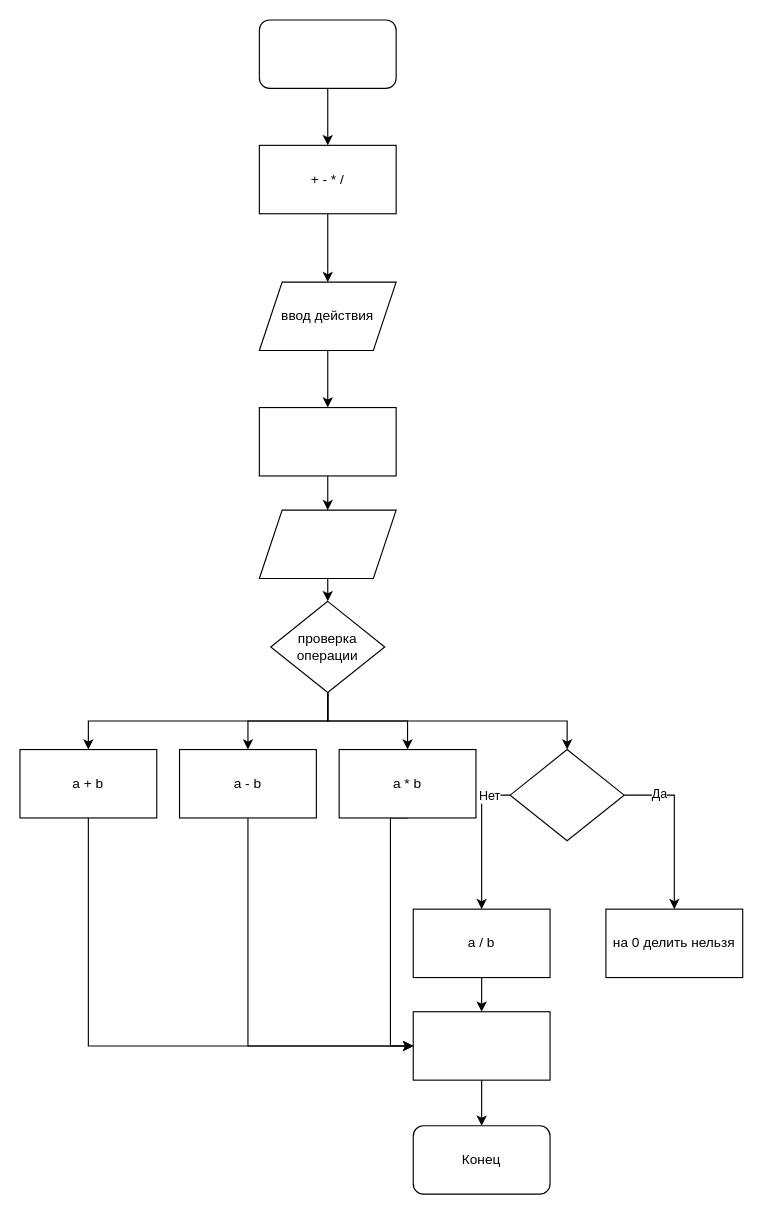
This 763x1214 diagram has some shape labels left out. The shapes that lost their labels are listed below. From the top down, each one's box as (x1, y1, x2, y2) in pixels, then its label:
(258, 19, 396, 88): Начало
(258, 406, 396, 476): Ввод значения
(258, 509, 396, 579): a b
(509, 748, 624, 841): b = 0?
(412, 1011, 550, 1080): Вывод
